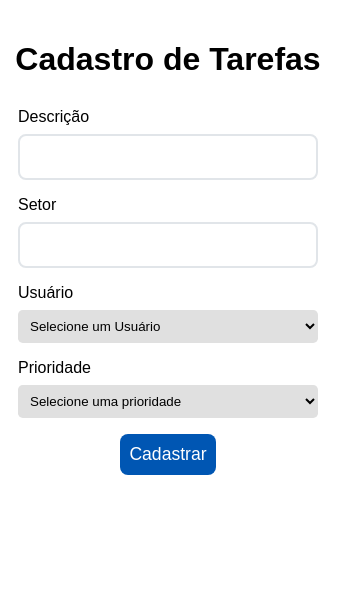
Scenario: Cadastro de Tarefas › deve exibir erros ao preencher apenas o campo usuário
Select "João Adegas" in the dropdown labelled "Usuário" at (168,327), box [18,310,318,343]
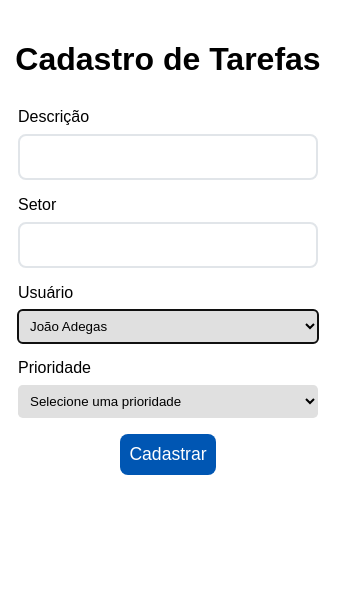
Click the button "Cadastrar".
click(168, 454)  # box [120,434,216,475]
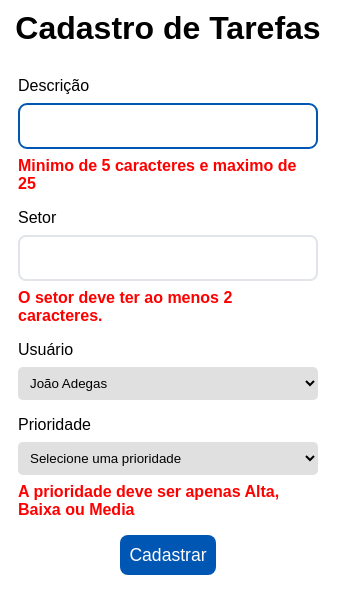
Expected: the text "Minimo de 5 caracteres e maximo de 25" is shown, [18,157,318,193]
Expected: the text "O setor deve ter ao menos 2 caracteres." is shown, [18,289,232,324]
Expected: the text "A prioridade deve ser apenas Alta, Baixa ou Media" is shown, [18,483,318,519]
